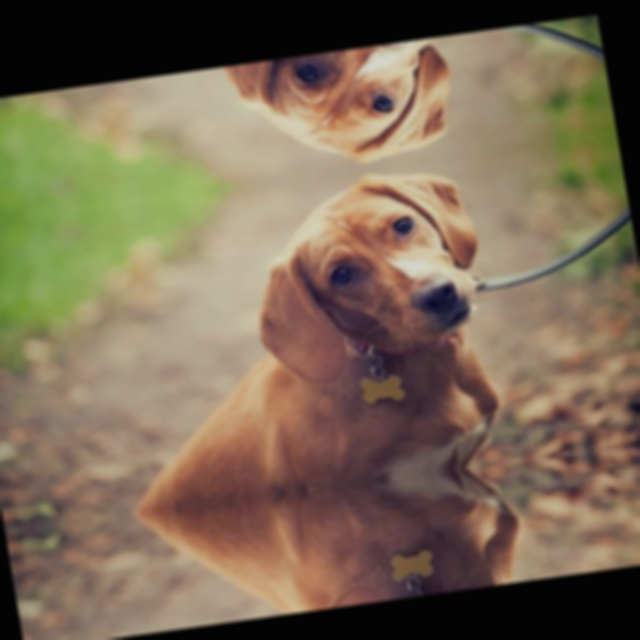dog: (220, 153, 517, 403), (200, 34, 481, 189), (287, 550, 552, 614)
